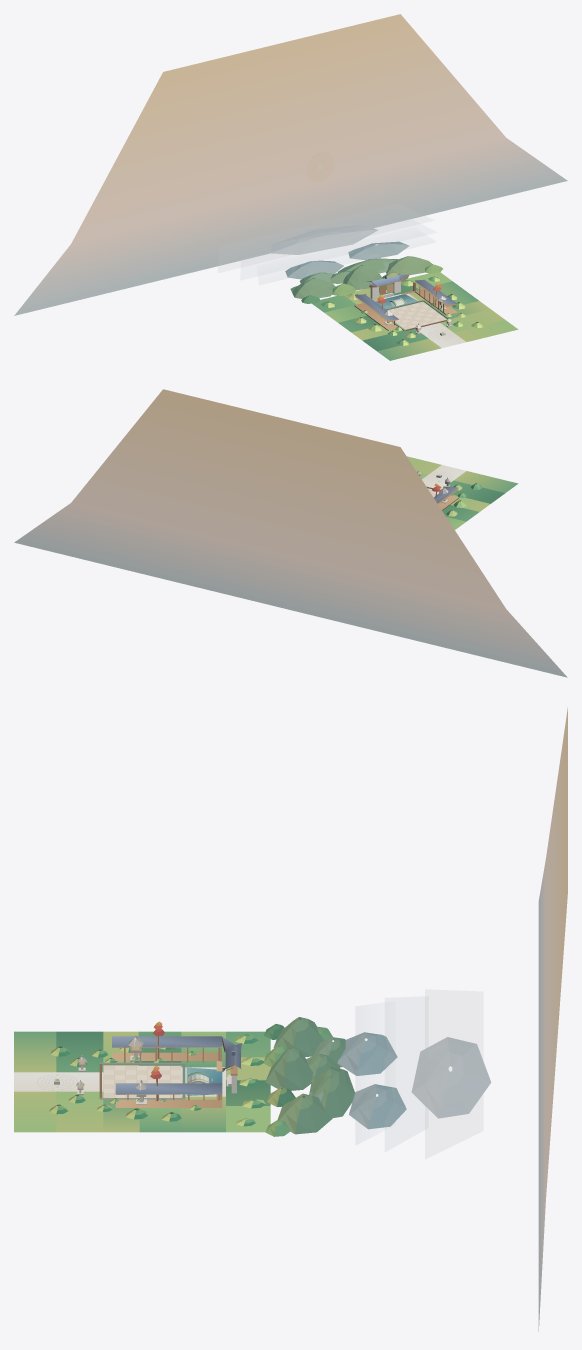
The model's file is env_mossgarden.glb.
3 views of the same model, one above another, from view 1: azimuth 30°, elevation 25°; view 2: azimuth 150°, elevation 25°; view 3: azimuth 270°, elevation 25° (orthographic). The views are drawn at different scales.
Visible parts, largest first — view 1: MG_sky, MG_mist, MG_ground, MG_mountains, MG_corridor, MG_moss, MG_sun, MG_gate; view 2: MG_sky, MG_ground; view 3: MG_ground, MG_mountains, MG_mist, MG_sky, MG_corridor, MG_moss.
Boxes of the visible parts, bbox=[...] form: MG_sky: bbox=[14, 14, 567, 315]; MG_mist: bbox=[218, 204, 436, 284]; MG_ground: bbox=[312, 272, 518, 360]; MG_mountains: bbox=[271, 224, 442, 303]; MG_corridor: bbox=[354, 279, 457, 330]; MG_moss: bbox=[321, 276, 482, 345]; MG_sun: bbox=[306, 152, 334, 181]; MG_gate: bbox=[367, 273, 409, 298]; MG_sky: bbox=[14, 389, 567, 677]; MG_ground: bbox=[407, 456, 518, 529]; MG_ground: bbox=[14, 1031, 270, 1132]; MG_mountains: bbox=[263, 1017, 491, 1136]; MG_mist: bbox=[356, 990, 482, 1158]; MG_sky: bbox=[538, 707, 567, 1331]; MG_corridor: bbox=[112, 1036, 222, 1107]; MG_moss: bbox=[49, 1034, 265, 1126].
Bounding box in the file's own units: 56 × 19.2 × 30.2.
